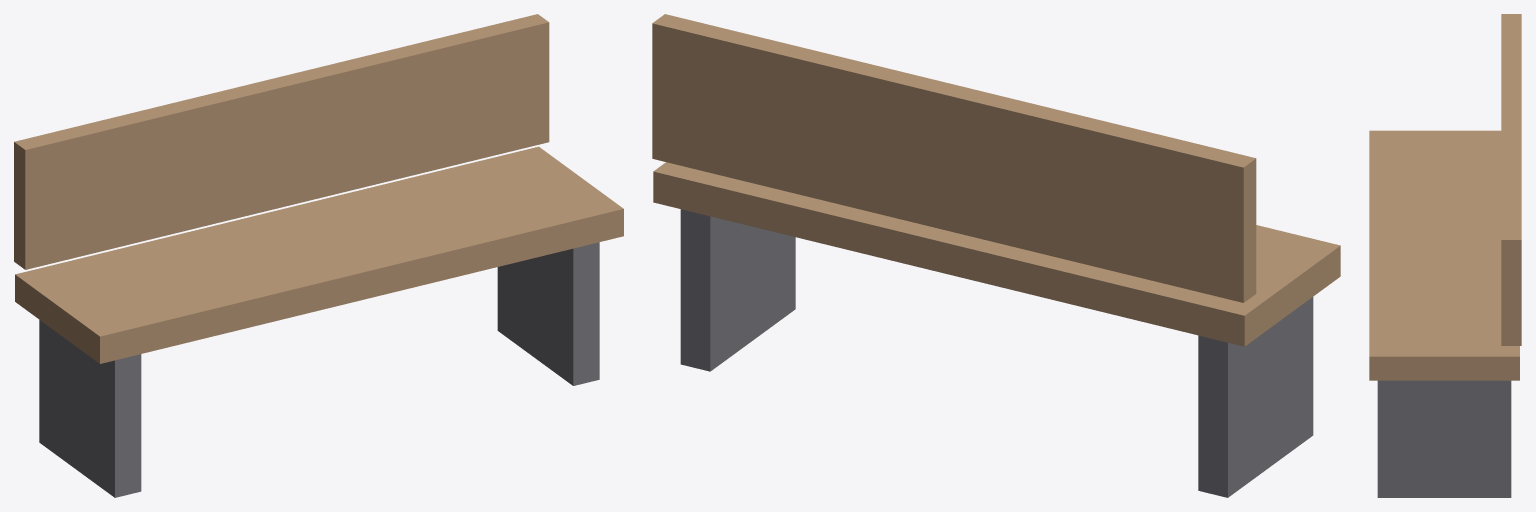
File: banca.glb
The picture shows the model from 3 angles, left to right: view 1: azimuth 30°, elevation 25°; view 2: azimuth 150°, elevation 25°; view 3: azimuth 270°, elevation 25°; orthographic projection. The views are drawn at different scales.
Visible parts, largest first — view 1: banca; view 2: banca; view 3: banca.
Boxes of the visible parts, box(x1,y1,x2,y2) form: banca: box(14, 14, 623, 497); banca: box(652, 14, 1340, 497); banca: box(1369, 14, 1521, 497).
Bounding box in the file's own units: 1.6 × 0.88 × 0.455.
